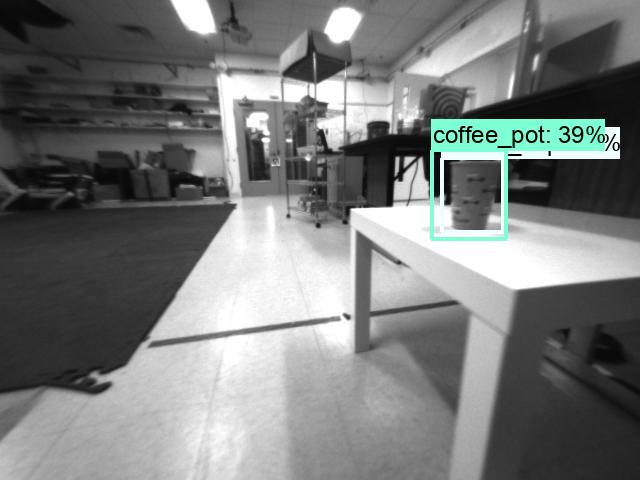coffee_cup: (450, 160, 502, 232)
